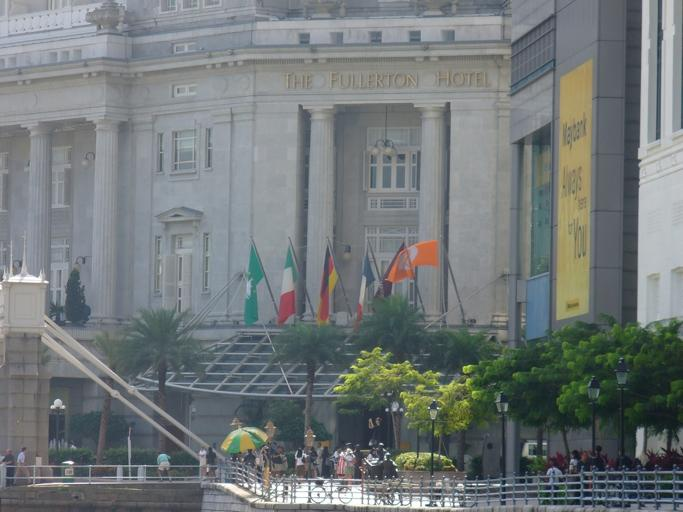non-vehicle: (598, 482, 661, 508), (309, 473, 352, 503), (457, 490, 475, 507)
